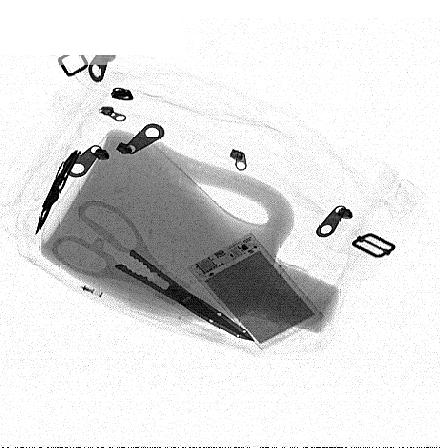Knife: (35, 146, 83, 233)
Powerbank: (187, 231, 327, 353)
Scissors: (52, 201, 258, 344)
